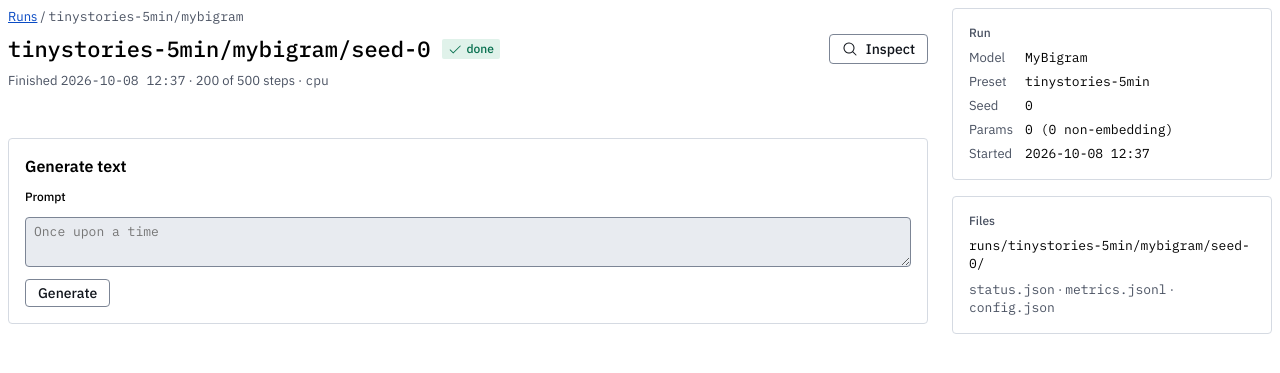
Test: Run actions › generates text from a finished run with the API's defaults
Type "Once" into the text box labelled "Prompt". click: x=468, y=242
box: [25,217,911,267]
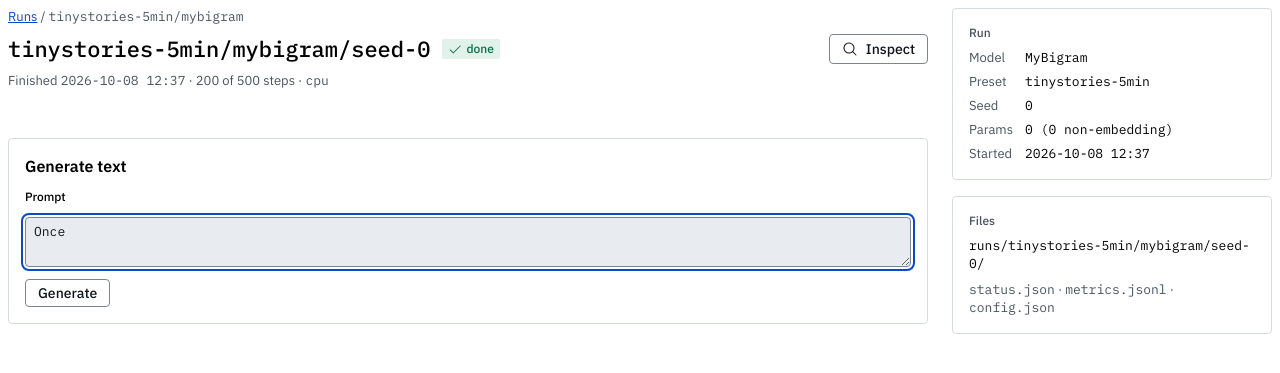
Click the button "Generate". click: x=68, y=293
box: [25,279,110,307]
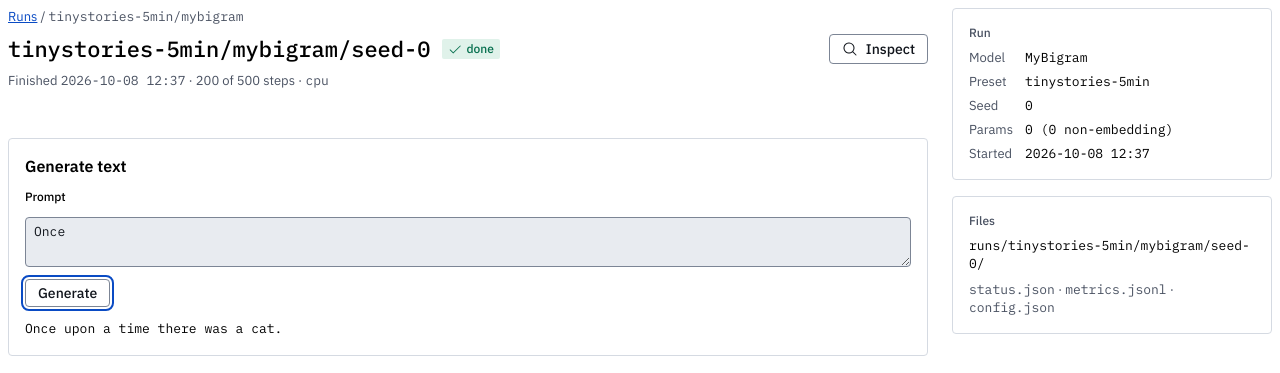
Check: the text "Once upon a time there was a cat." is shown, box [25,320,282,337]
